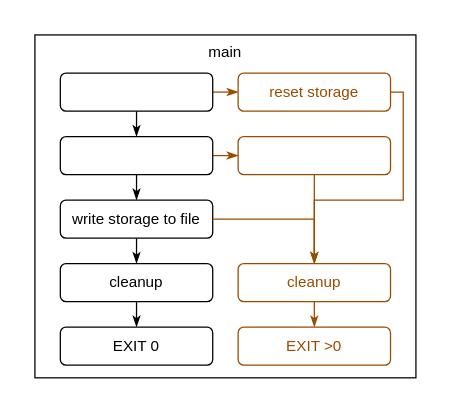
Some shapes in this 450 by 411 pixel diagram are drawn without their labels. The centre of each missing label's shape, as x and y in pixels:
log storage: point (314, 155)
setup file: point (136, 155)
setup storage: point (136, 91)
